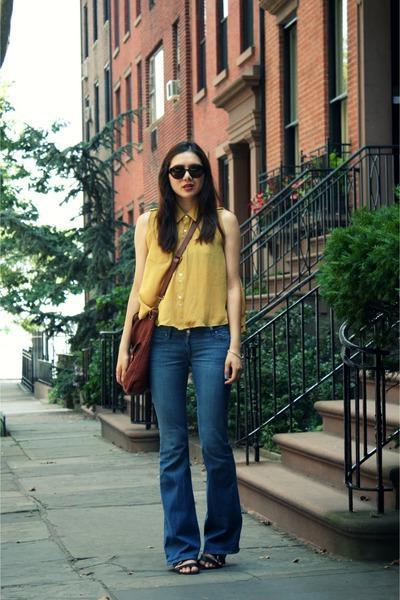short sleeve shirt: (139, 208, 230, 328)
trousers: (147, 323, 244, 567)
